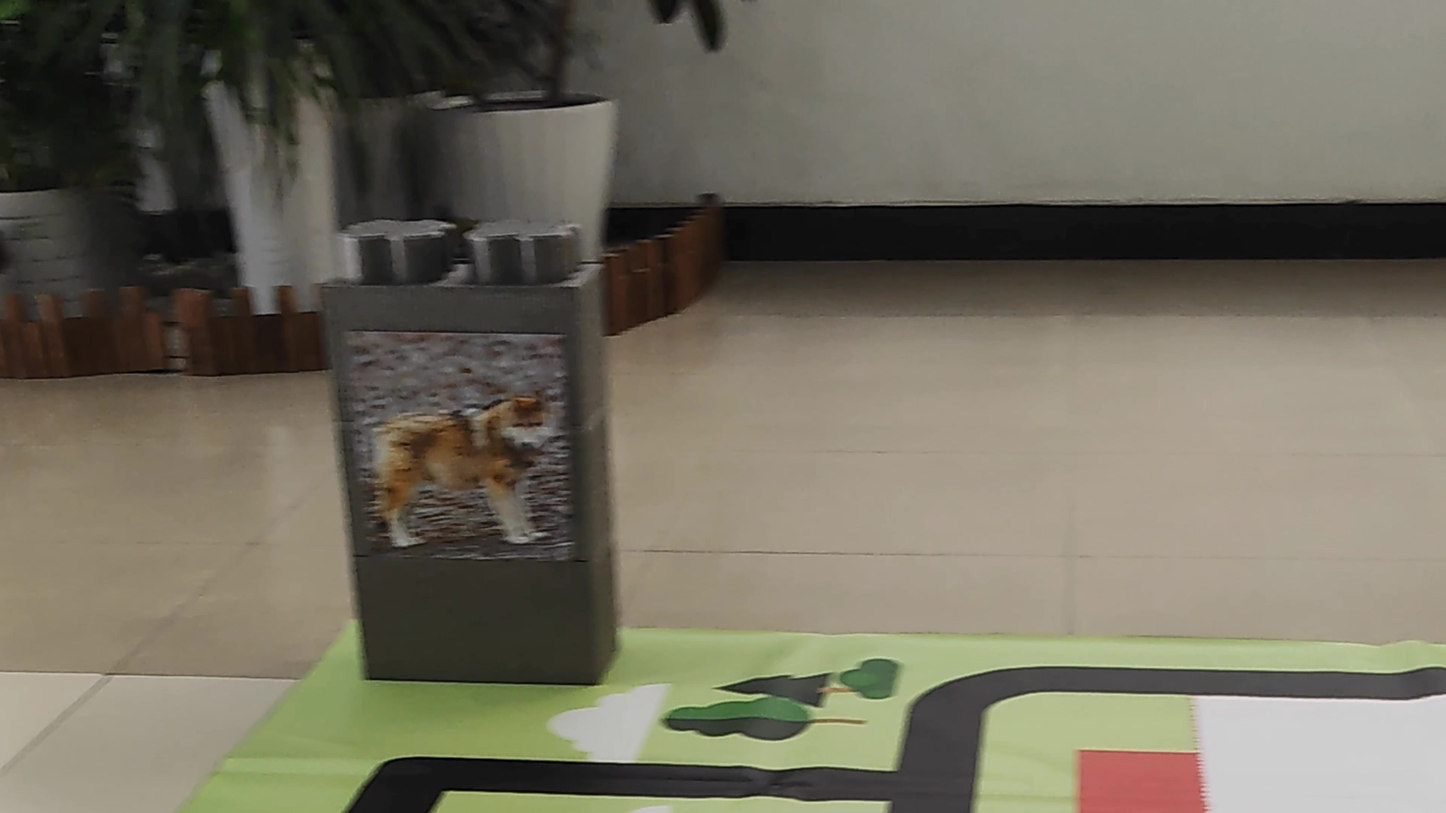wolf: (366, 371, 581, 561)
